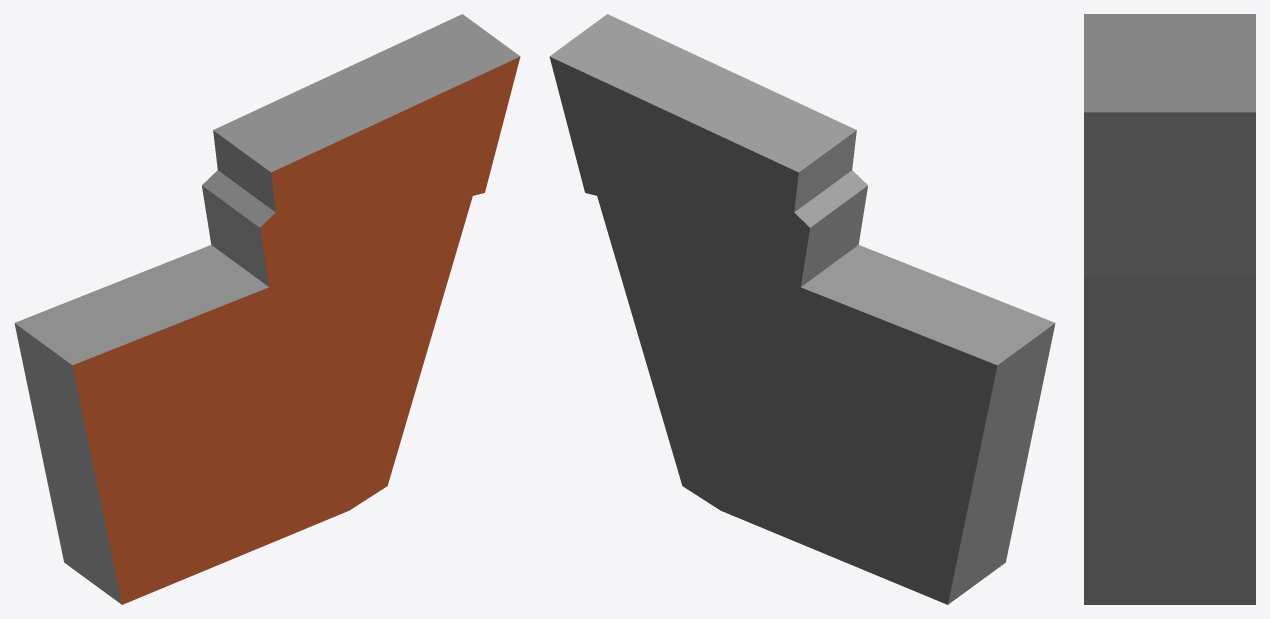
Rendered from construction_1836_assumed_A_Casa_h6m.obj.
3 views of the same model, side by side, from view 1: azimuth 30°, elevation 25°; view 2: azimuth 150°, elevation 25°; view 3: azimuth 270°, elevation 25° (orthographic). The views are drawn at different scales.
Parts seen in each view (by area): view 1: construction_1836_assumed_A_Casa; view 2: construction_1836_assumed_A_Casa; view 3: construction_1836_assumed_A_Casa.
Part boxes in pixels (bbox=[...]): construction_1836_assumed_A_Casa: bbox=[14, 14, 520, 604]; construction_1836_assumed_A_Casa: bbox=[549, 14, 1055, 604]; construction_1836_assumed_A_Casa: bbox=[1084, 14, 1255, 604].
Bounding box in the file's own units: 26.76 × 25.75 × 6.
